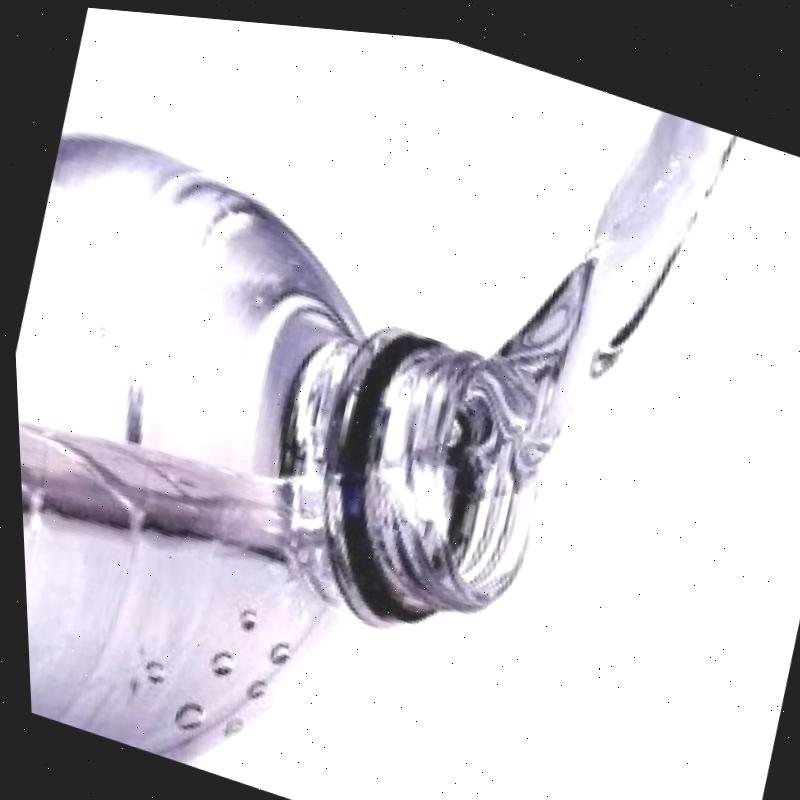botella: (4, 113, 600, 800)
